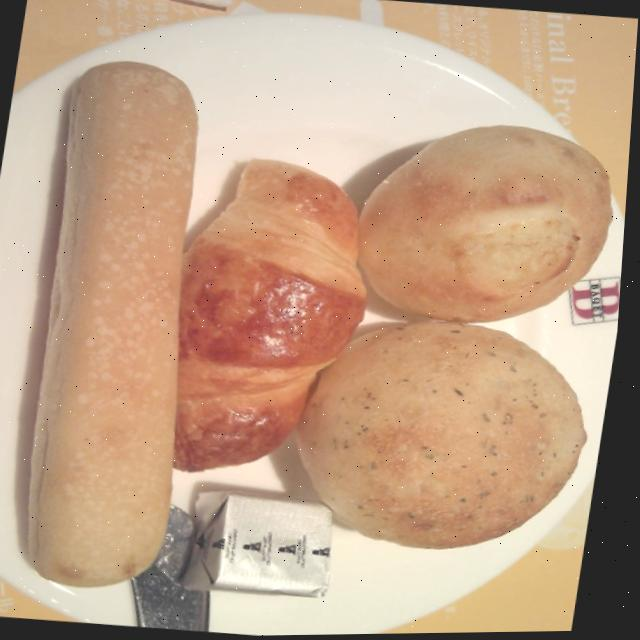三明治: (0, 61, 230, 596), (289, 311, 611, 574), (348, 106, 623, 336)
面包点心: (155, 149, 389, 497)
